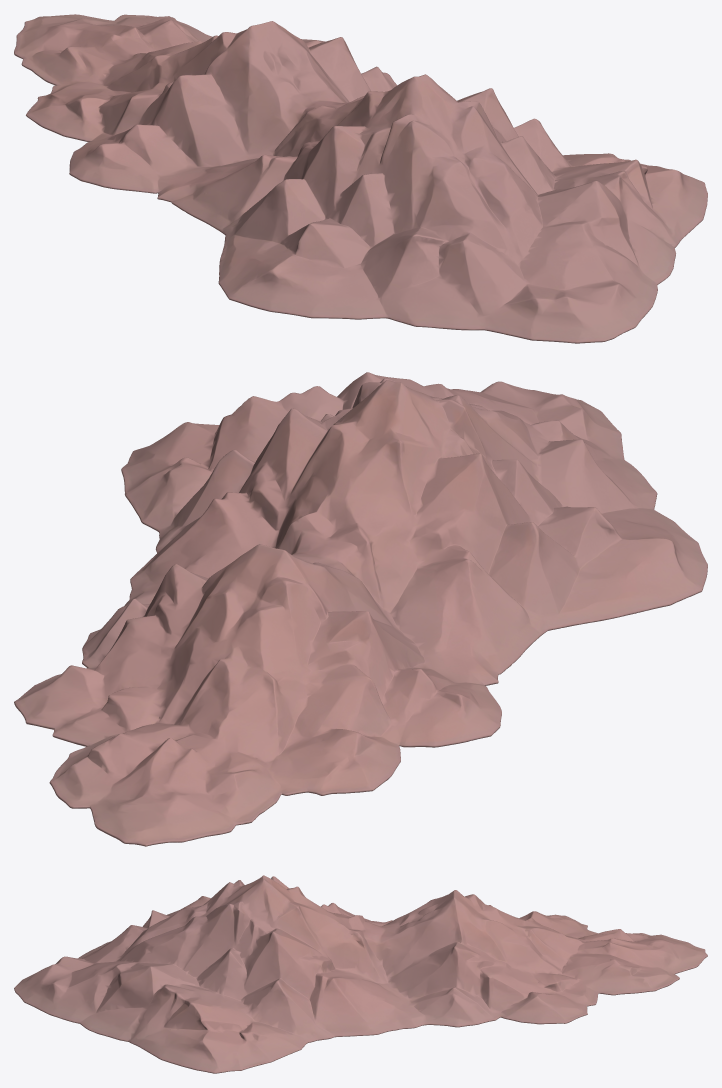
The model's file is desert+mountain+range+3d+model.glb.
The picture shows the model from 3 angles, top to bottom: view 1: azimuth 30°, elevation 25°; view 2: azimuth 150°, elevation 25°; view 3: azimuth 270°, elevation 25°; orthographic projection. The views are drawn at different scales.
Parts seen in each view (by area): view 1: tripo_node_e4a5a3b3-55fb-45bb-9a72-9b9dcdc589c6; view 2: tripo_node_e4a5a3b3-55fb-45bb-9a72-9b9dcdc589c6; view 3: tripo_node_e4a5a3b3-55fb-45bb-9a72-9b9dcdc589c6.
Part boxes in pixels (x1,y1,x2,y2): tripo_node_e4a5a3b3-55fb-45bb-9a72-9b9dcdc589c6: [14, 14, 707, 343]; tripo_node_e4a5a3b3-55fb-45bb-9a72-9b9dcdc589c6: [14, 372, 707, 846]; tripo_node_e4a5a3b3-55fb-45bb-9a72-9b9dcdc589c6: [14, 875, 707, 1073].
Bounding box in the file's own units: 0.58 × 0.17 × 1.
Materials: 1 (1 with a texture image).
